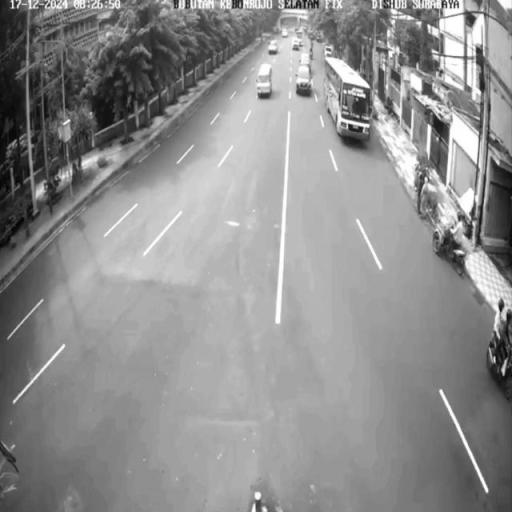bus: (323, 55, 372, 147)
car: (258, 63, 274, 98)
motorcycle: (431, 217, 464, 272)
